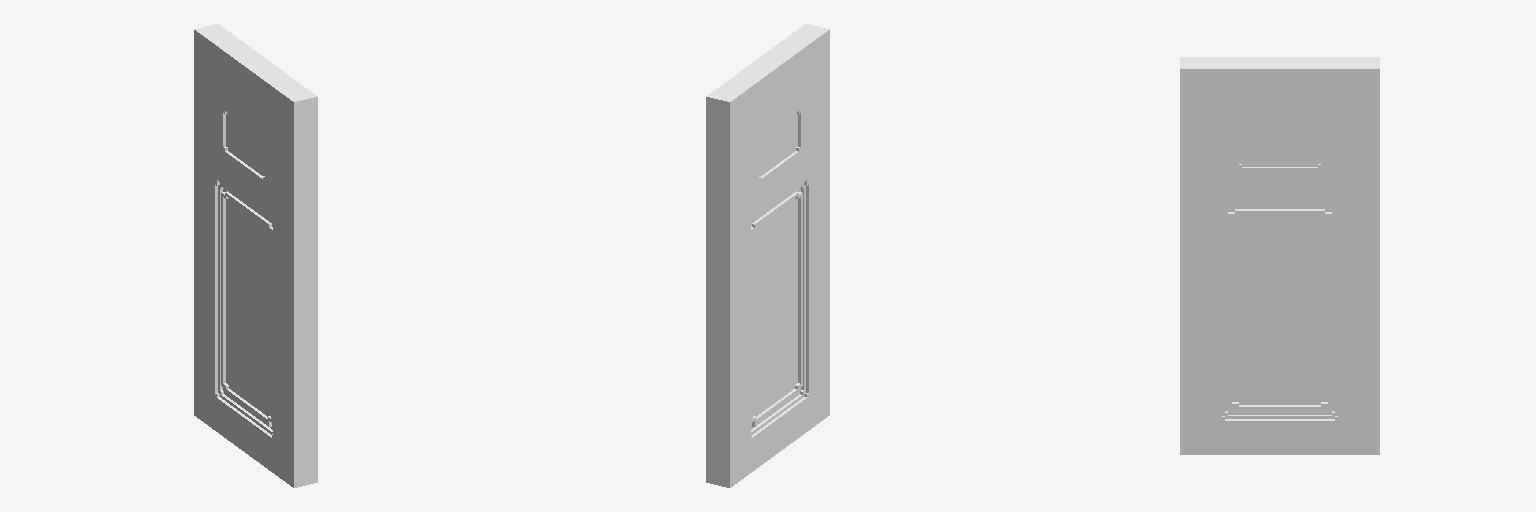
File: factory4.3-50.obj
The picture shows the model from 3 angles: view 1: azimuth 30°, elevation 25°; view 2: azimuth 150°, elevation 25°; view 3: azimuth 270°, elevation 25°; orthographic projection.
Parts seen in each view (by area): view 1: object 1; view 2: object 1; view 3: object 1.
Boxes of the visible parts, box(x1,y1,x2,y2) form: object 1: box(194, 24, 317, 487); object 1: box(706, 24, 829, 487); object 1: box(1180, 57, 1379, 454).
Bounding box in the file's own units: 0.8 × 12.4 × 5.8.